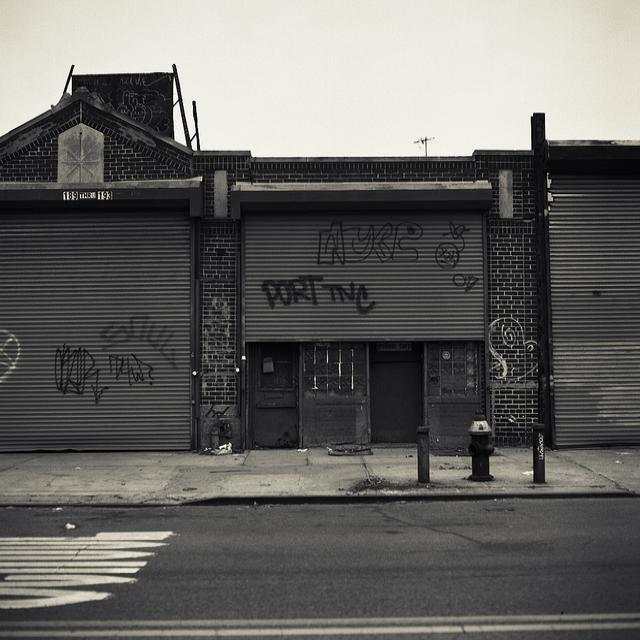fire_hydrant: (465, 408, 495, 482)
